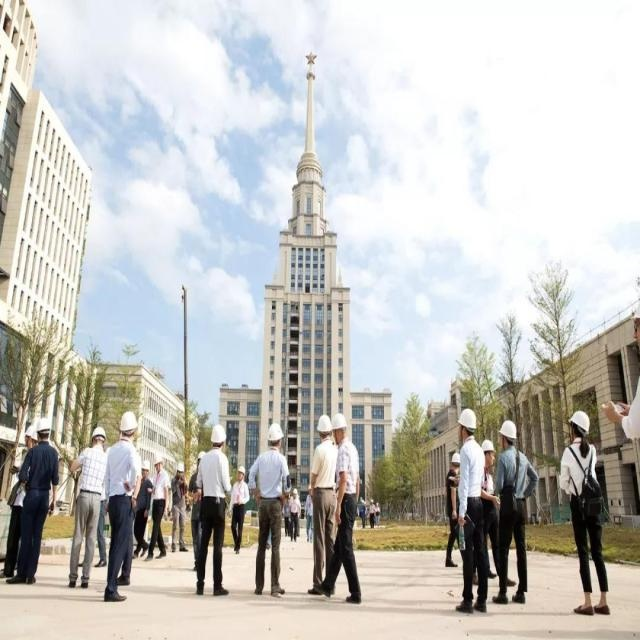Con_Casco: (457, 408, 477, 442), (118, 410, 138, 439), (210, 424, 227, 448), (316, 414, 332, 439), (91, 425, 106, 448), (268, 423, 283, 445)
